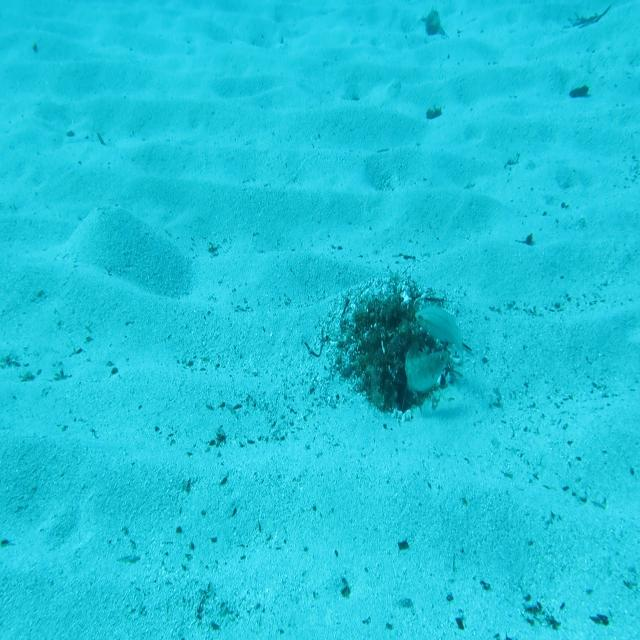DAN_CIRC: (404, 340, 450, 396)
female: (413, 303, 466, 366)
nest: (336, 252, 472, 408)
